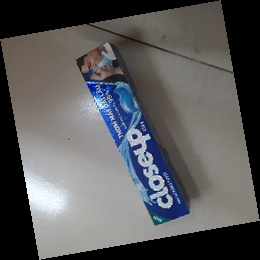CloseUp Tuyet: (74, 42, 193, 228)
